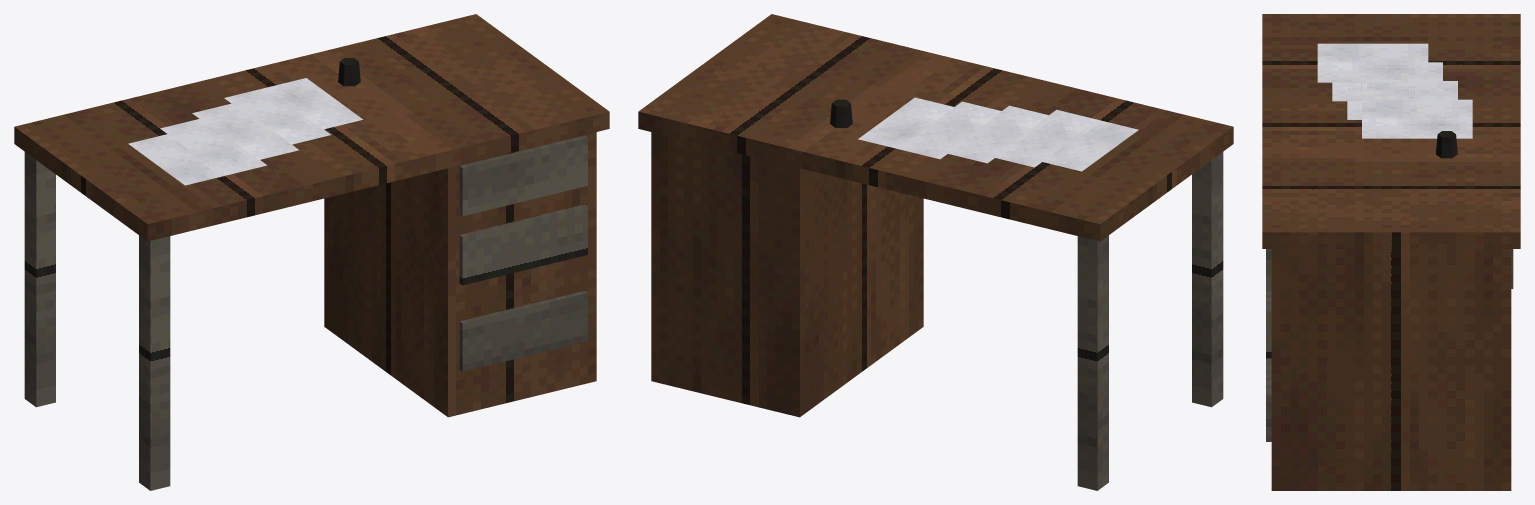
The model's file is escritorio.obj.
The picture shows the model from 3 angles, left to right: view 1: azimuth 30°, elevation 25°; view 2: azimuth 150°, elevation 25°; view 3: azimuth 270°, elevation 25°; orthographic projection. The views are drawn at different scales.
Parts seen in each view (by area): view 1: escritorio; view 2: escritorio; view 3: escritorio.
Part boxes in pixels (left/top/right/bottom): escritorio: left=14, top=14, right=609, bottom=490; escritorio: left=638, top=14, right=1233, bottom=490; escritorio: left=1262, top=14, right=1520, bottom=490.
Size of the model in its own units: 1.4 by 0.845 by 0.7.
4 materials, 4 textured.
